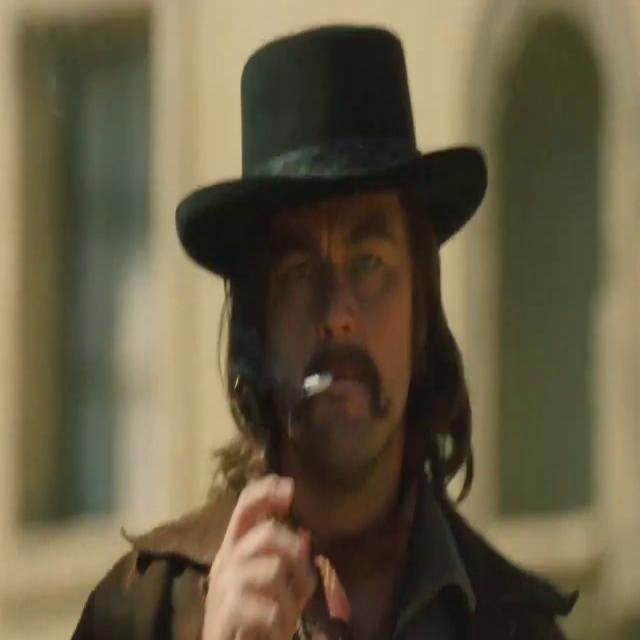Smooking: (296, 365, 344, 404)
